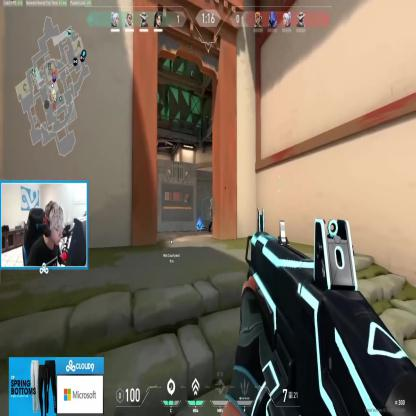enemy: (210, 194, 218, 235)
